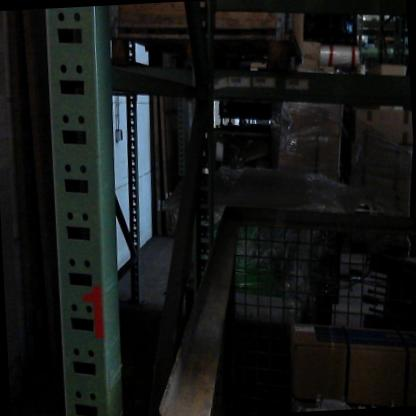pallet: (97, 21, 298, 81)
stillage: (150, 171, 416, 416)
